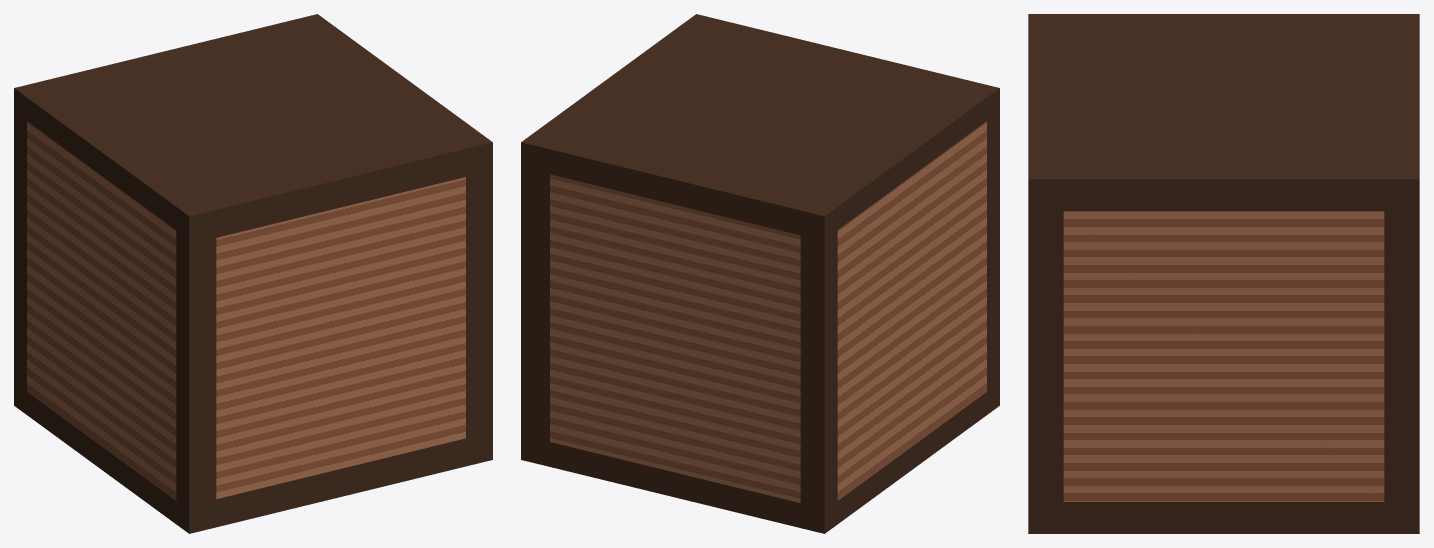
The model's file is crate.fbx.
3 renders of one model, left to right at view 1: azimuth 30°, elevation 25°; view 2: azimuth 150°, elevation 25°; view 3: azimuth 270°, elevation 25°, orthographic. The views are drawn at different scales.
Visible parts, largest first — view 1: Cube; view 2: Cube; view 3: Cube.
Boxes of the visible parts, x1,y1,x2,y2 form: Cube: (14,14,492,533); Cube: (521,14,999,533); Cube: (1028,14,1419,533).
Bounding box in the file's own units: 526 × 526 × 526.
